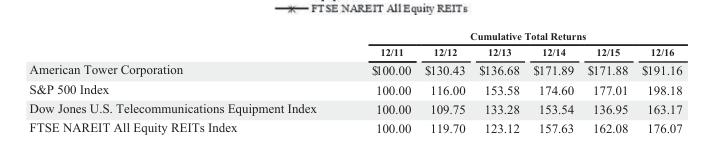table: (28, 29, 681, 135)
table column: (28, 29, 343, 135), (343, 29, 417, 135), (579, 29, 634, 135), (417, 29, 471, 135), (471, 29, 525, 135), (525, 29, 579, 135), (634, 29, 681, 135)
table column header: (28, 29, 681, 59)
table row: (28, 59, 681, 79), (28, 79, 681, 98), (28, 98, 681, 117), (28, 117, 681, 135), (28, 43, 681, 59), (28, 29, 681, 43)
table spanning cell: (343, 29, 681, 43)
